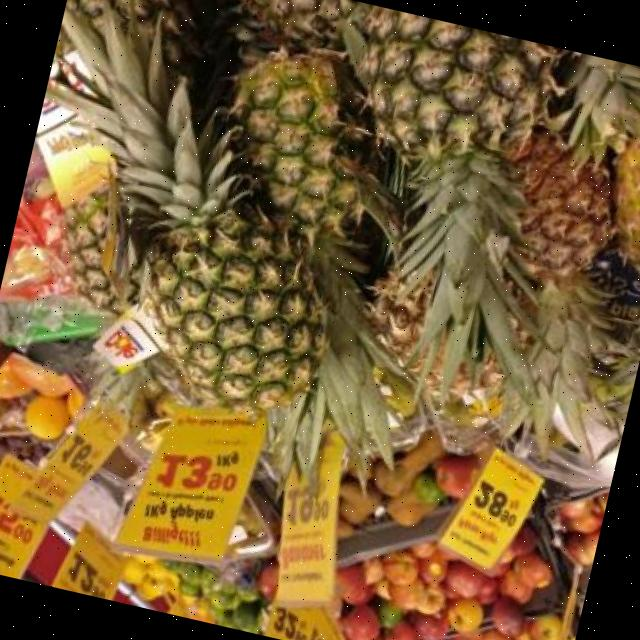pineapple: (61, 9, 320, 409), (345, 0, 557, 398), (234, 54, 402, 471), (514, 130, 613, 437), (63, 179, 129, 314), (67, 0, 191, 60), (240, 0, 344, 47), (619, 140, 640, 268)
